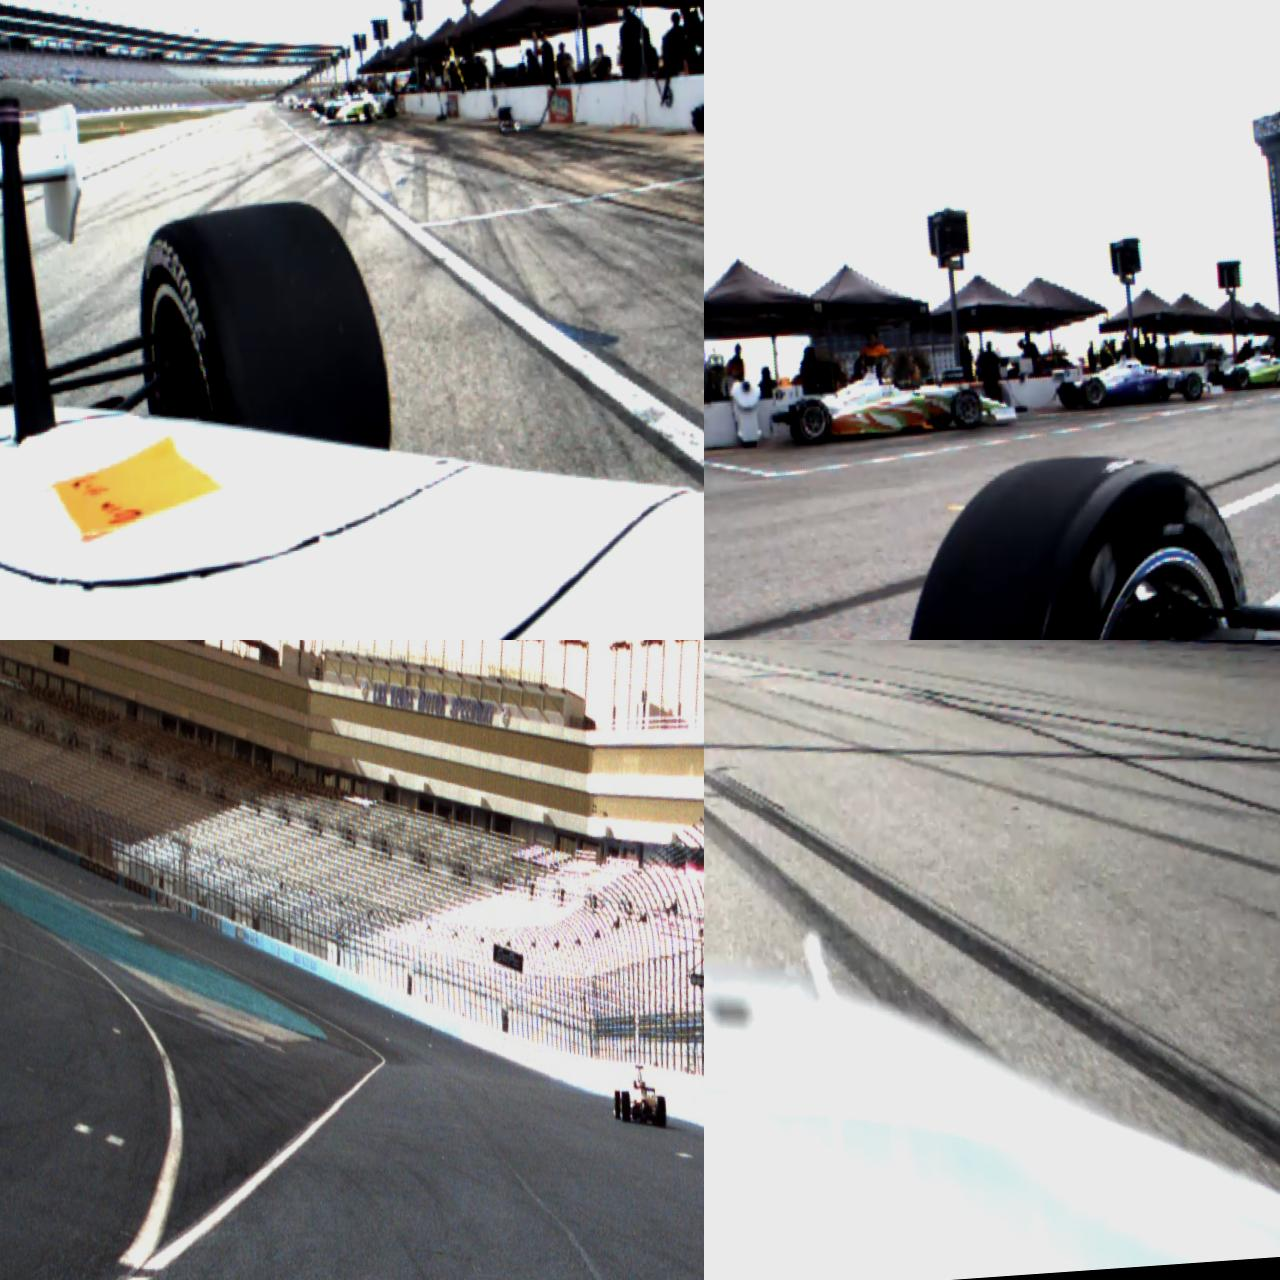AV: (770, 345, 1017, 451), (1055, 341, 1225, 413), (610, 1063, 668, 1130), (1210, 340, 1280, 393), (320, 84, 400, 128)
Wheel: (883, 445, 1279, 640), (132, 196, 394, 469), (790, 399, 832, 449), (952, 387, 983, 431), (1082, 376, 1108, 410), (1182, 372, 1204, 403), (1057, 381, 1077, 413), (1232, 367, 1250, 390), (654, 1095, 667, 1126), (620, 1091, 632, 1122), (613, 1091, 622, 1121), (386, 98, 397, 118), (365, 102, 375, 123), (327, 107, 335, 127)
